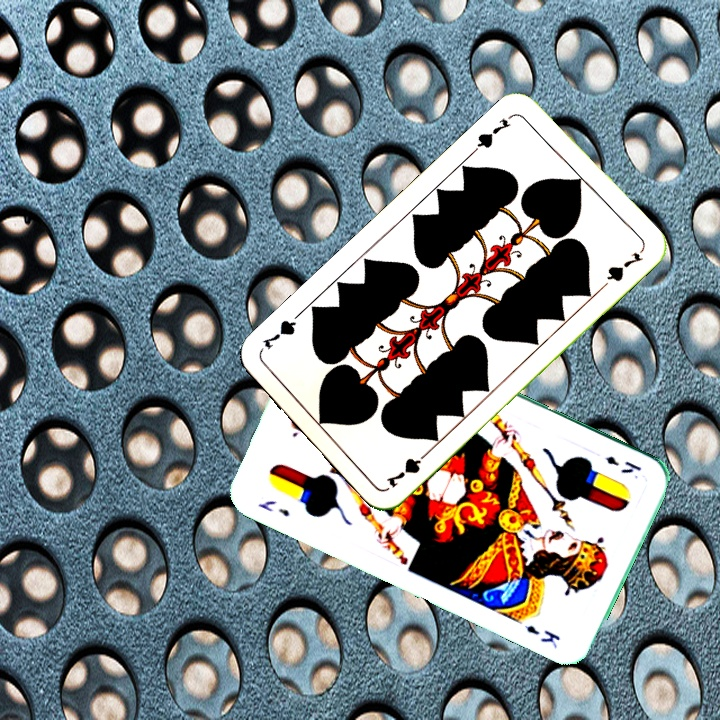EK: (602, 451, 645, 477), (253, 496, 293, 520)
G7: (382, 446, 434, 490), (469, 110, 517, 155)
